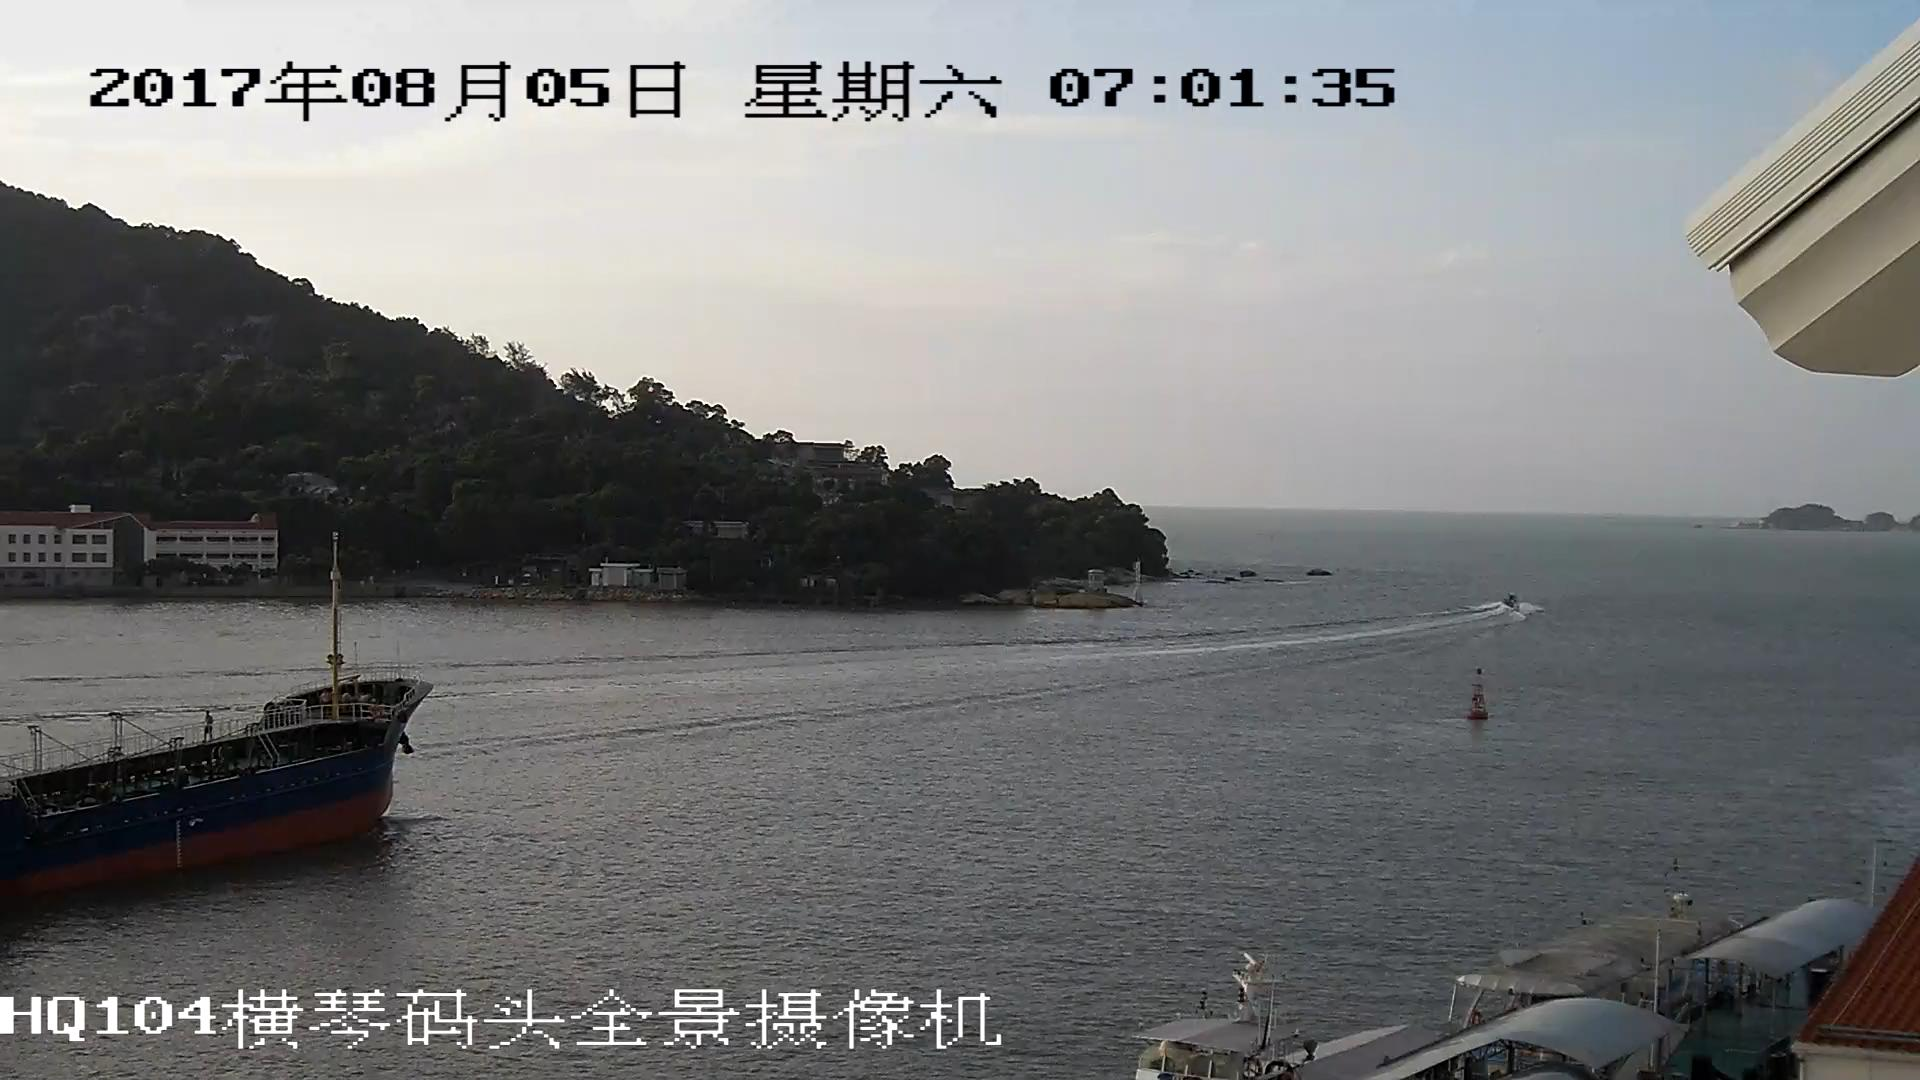general cargo ship: (1, 540, 438, 916)
